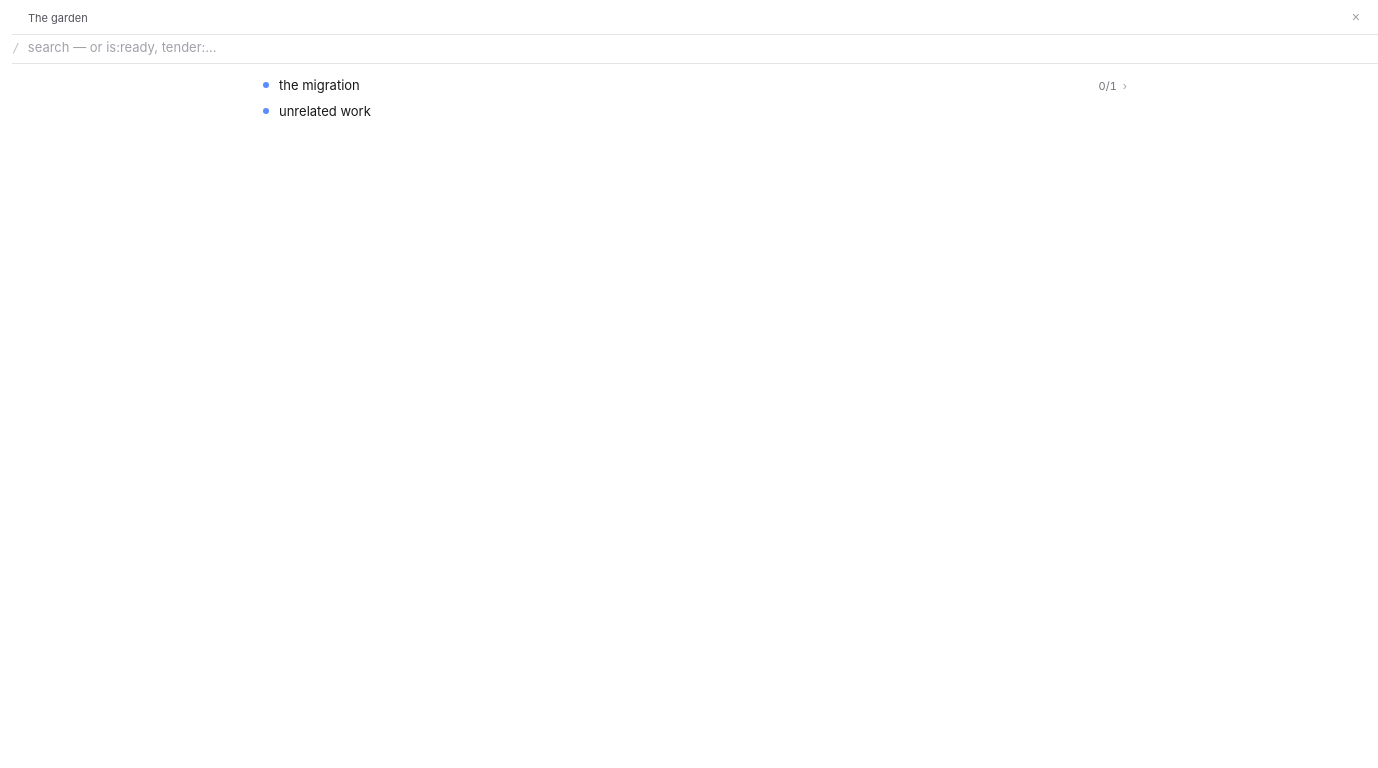
Test: GardenPanel columns › switches siblings when a row in an earlier column is clicked
Click the button "the migration 0/1 ›" at (319, 85), box 255,72 -> 1135,98
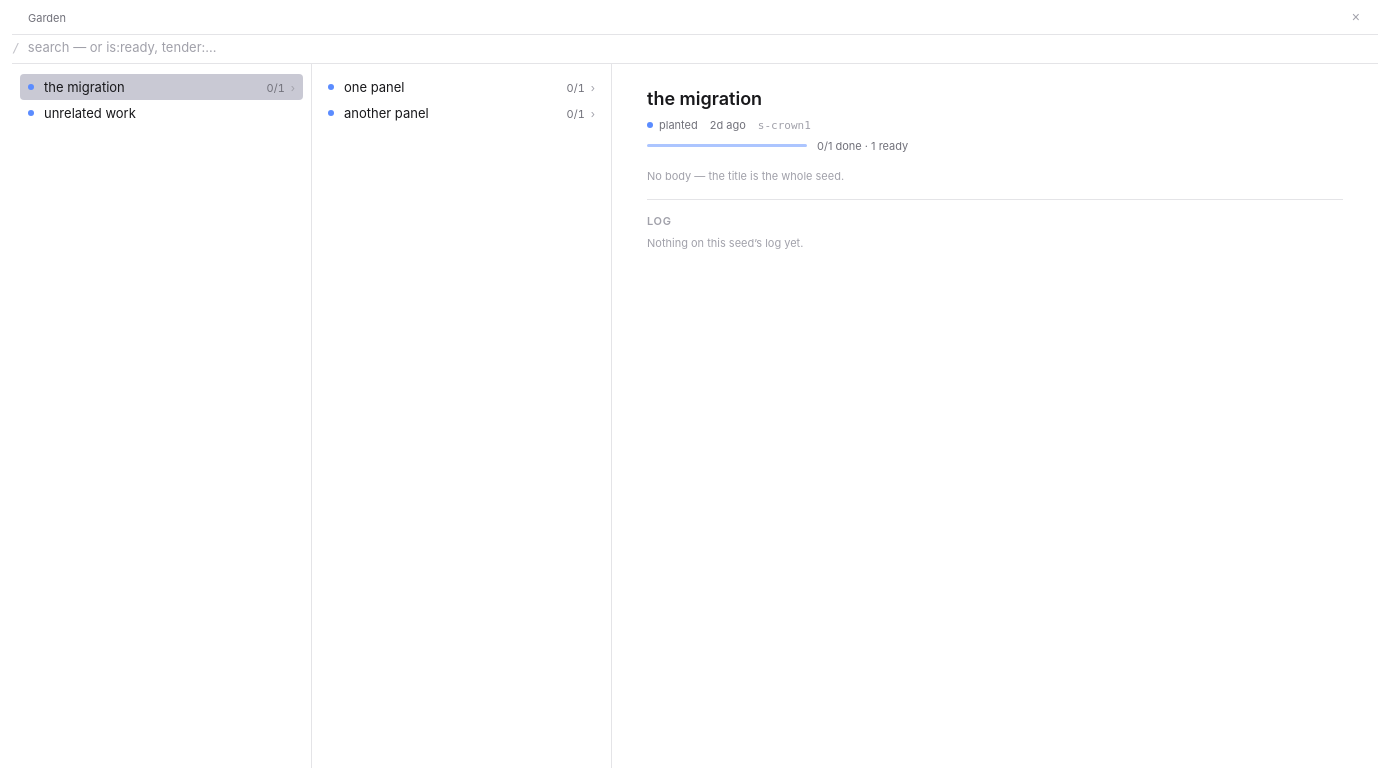
Click the button "one panel 0/1 ›" at (374, 87), box 320,74 -> 603,100
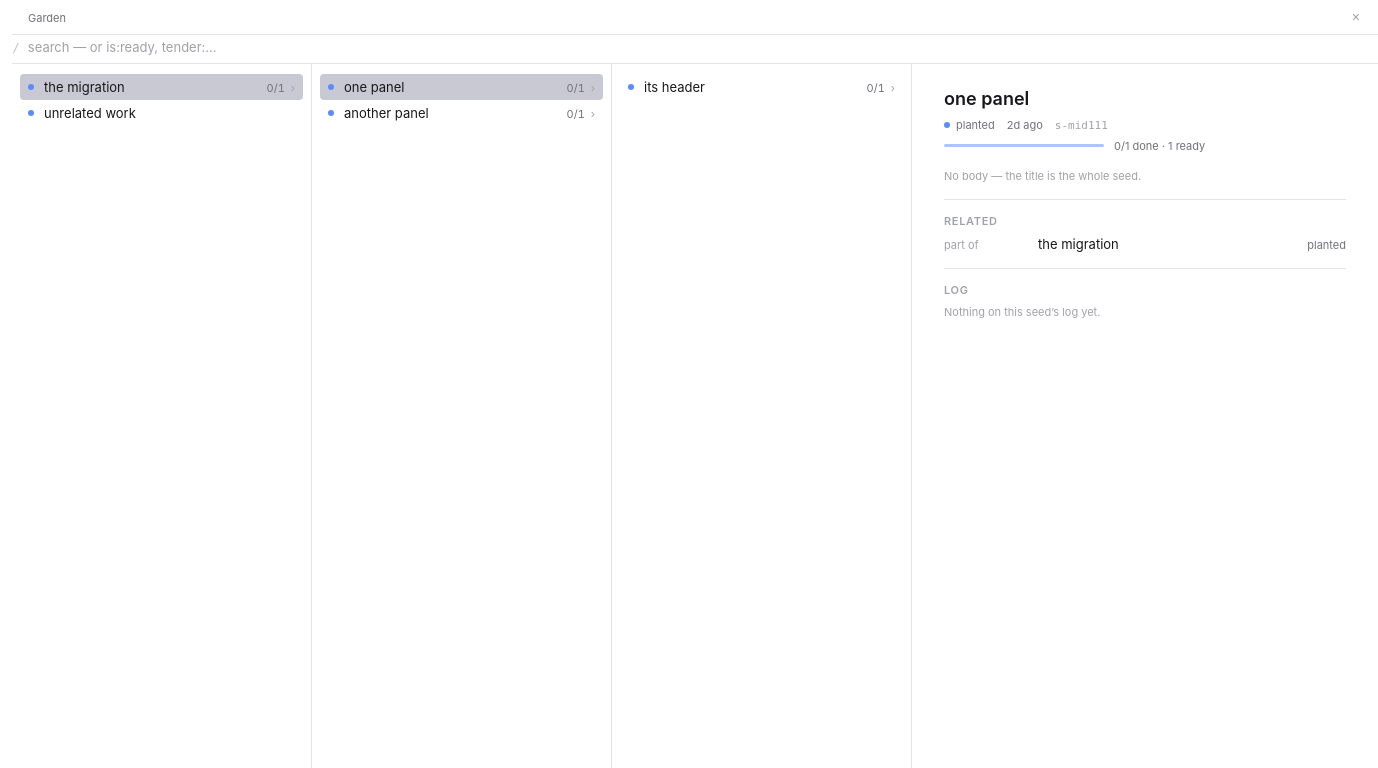
Check: the heading "one panel" is shown, box 944,88 -> 1029,109
Click the button "another panel 0/1 ›" at (386, 113), box 320,100 -> 603,126
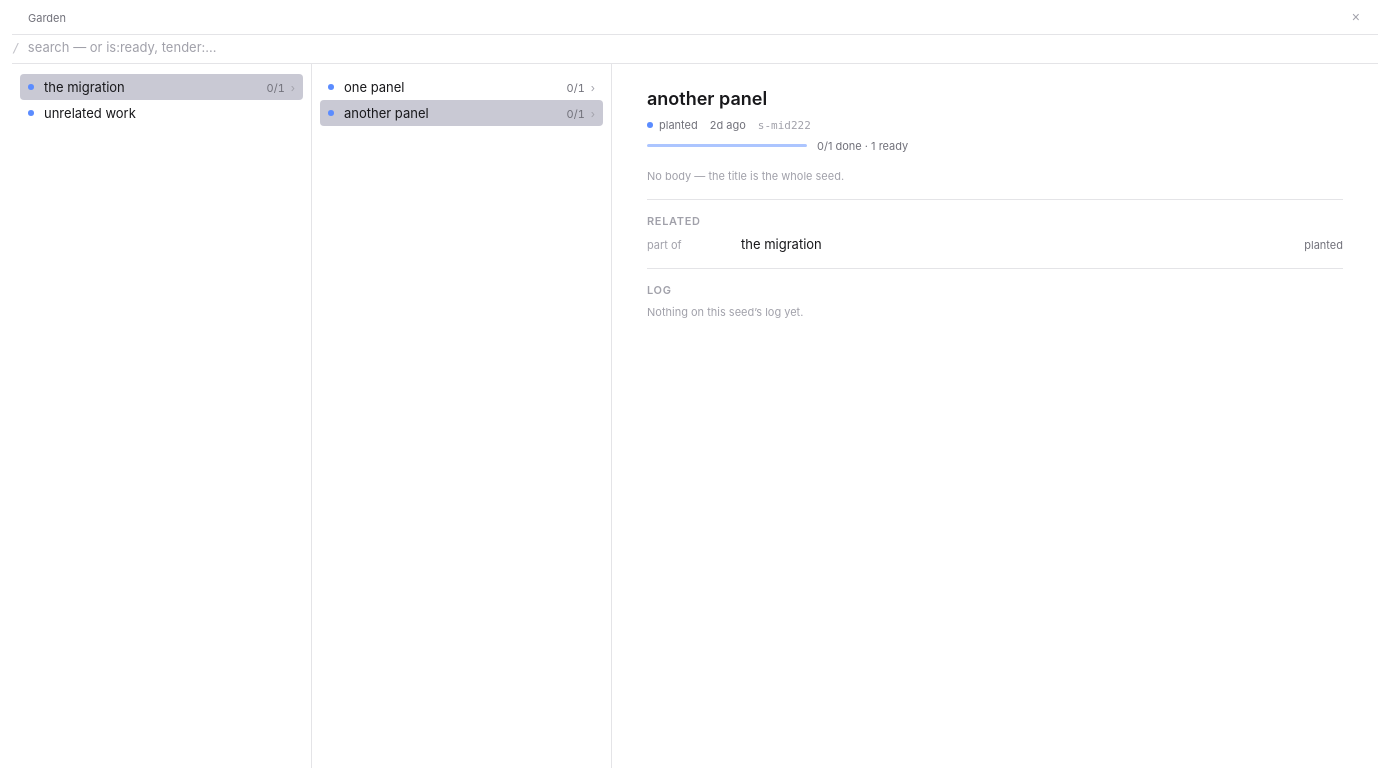
Check: the heading "another panel" is shown, box 647,88 -> 767,109
